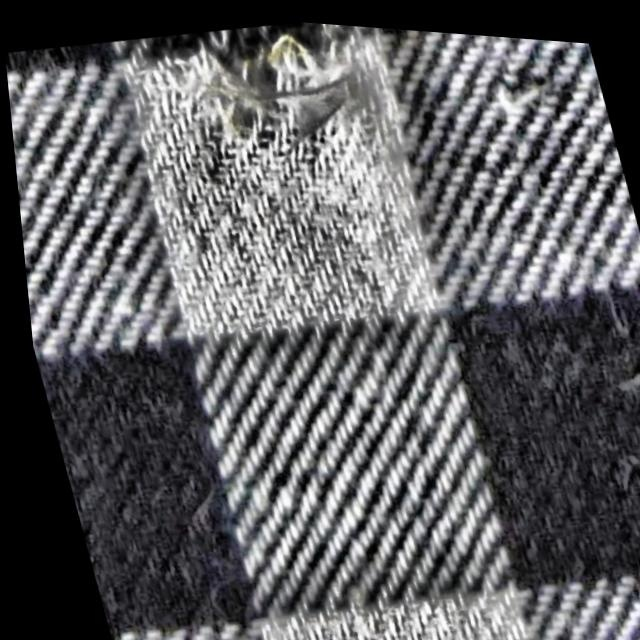Stitch: (164, 1, 627, 287)
